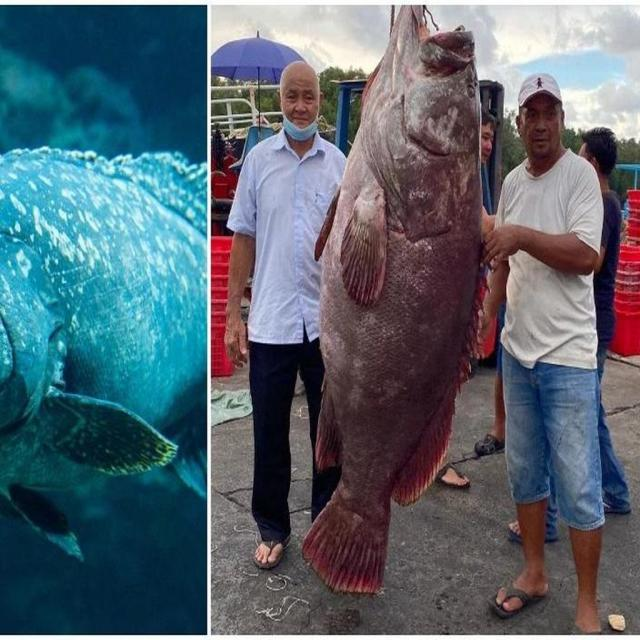grouper: (300, 6, 492, 599)
